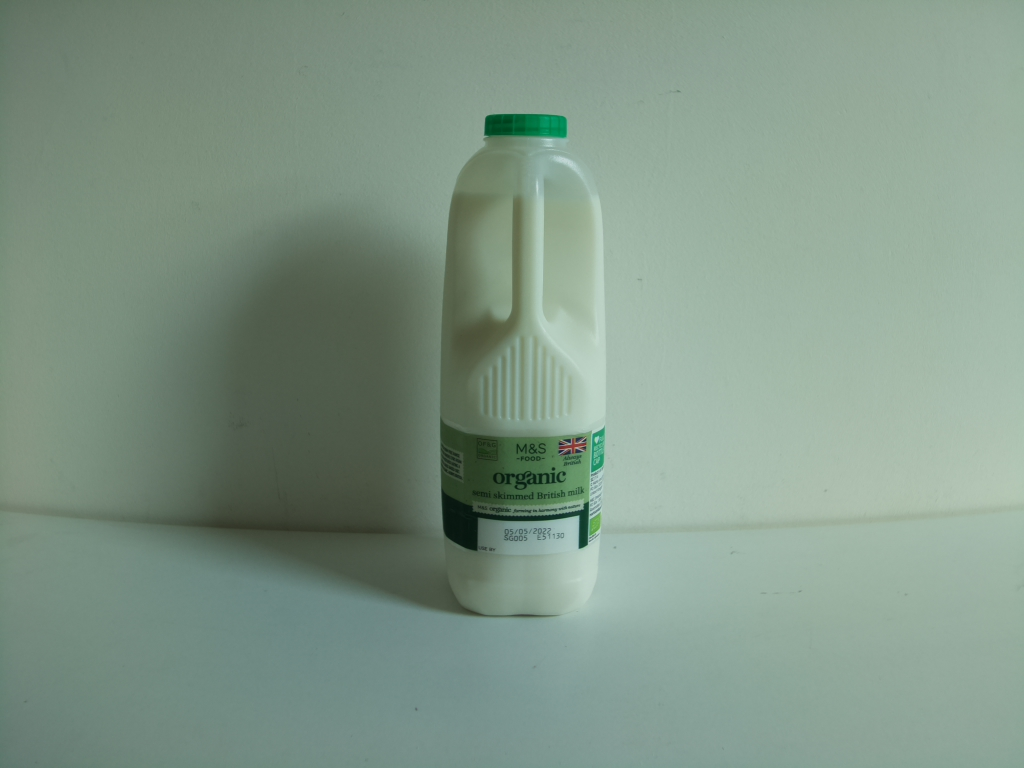milk: (431, 108, 615, 624)
